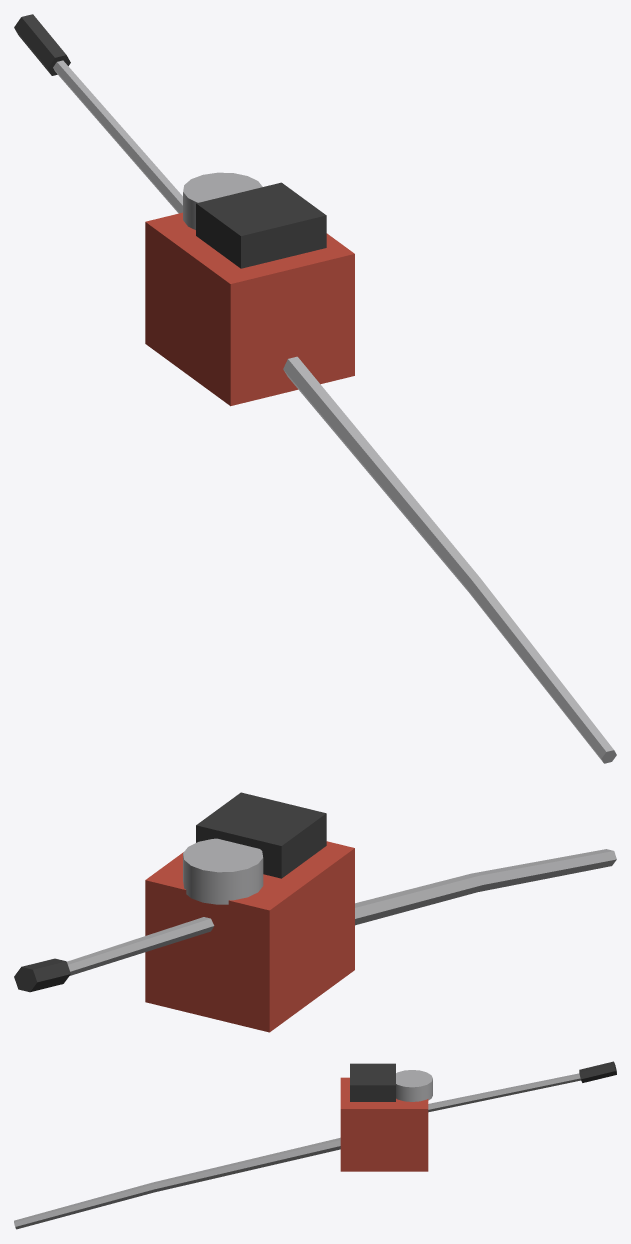
The model's file is motor_rabeta.glb.
3 views of the same model, one above another, from view 1: azimuth 30°, elevation 25°; view 2: azimuth 150°, elevation 25°; view 3: azimuth 270°, elevation 25° (orthographic). The views are drawn at different scales.
Parts seen in each view (by area): view 1: motor_rabeta; view 2: motor_rabeta; view 3: motor_rabeta.
Boxes of the visible parts, x1,y1,x2,y2 form: motor_rabeta: (14, 14, 616, 763); motor_rabeta: (14, 792, 616, 1032); motor_rabeta: (14, 1061, 616, 1229).
Size of the model in its own units: 0.32 by 0.7917 by 2.61.
